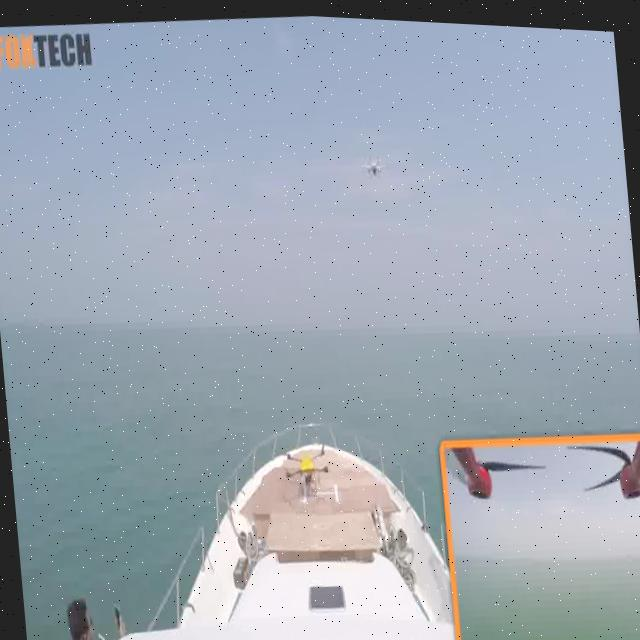drone: (352, 130, 396, 198)
